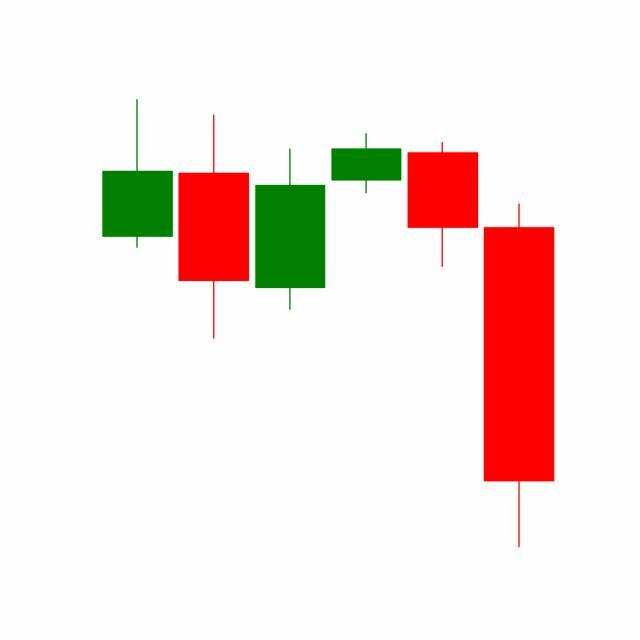Upside-Downside Gap Three Methods: (252, 132, 482, 313)
